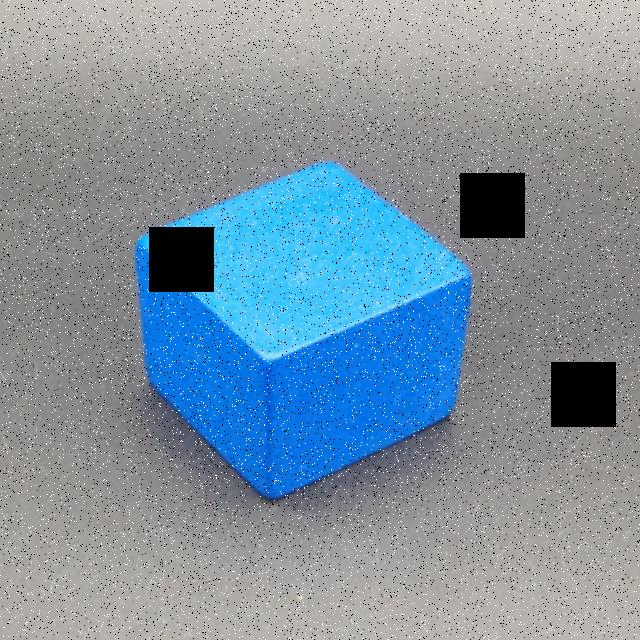bluecube: (134, 162, 473, 503)
